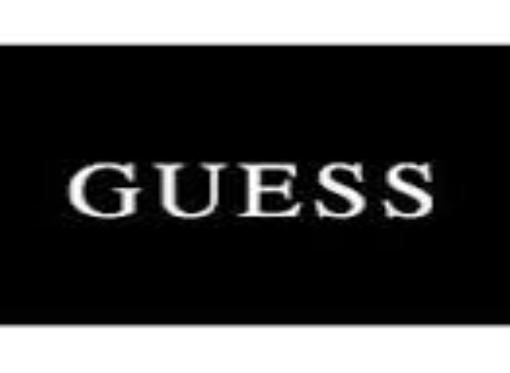GUESS: (66, 153, 436, 219)
